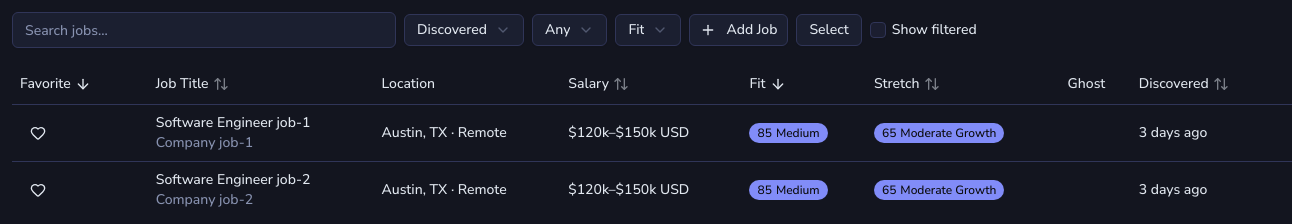
Scenario: OpportunitiesTable › multi-select mode › updates selected count when rows are checked
Expected: the text "Software Engineer job-1" is shown, [156,112,310,132]
What coordinates should you click on to do the following:
click the button with test id "select-mode-button"
I would click on:
 (829, 30)
Its box is [796,14,862,46].
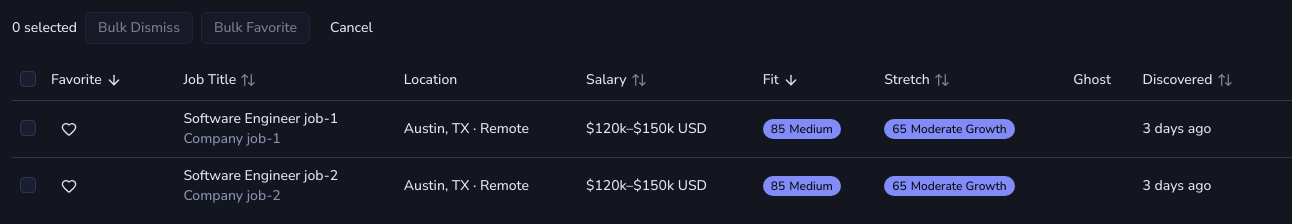
What coordinates should you click on to do the following:
click the checkbox named "Select row" next to "Software Engineer job-1"
I would click on:
 (28, 128)
Its box is [20,120,36,136].
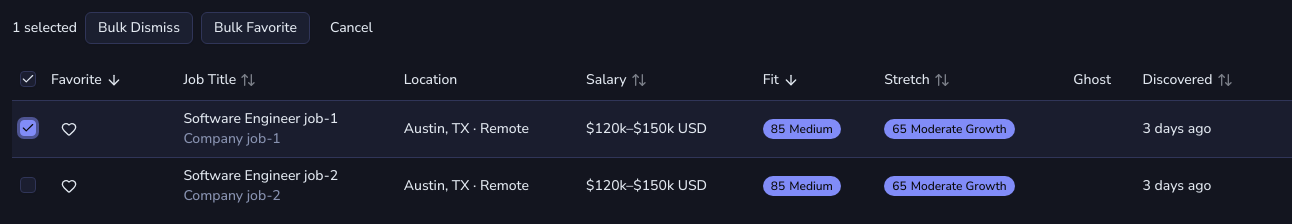
Expected: the text with test id "selected-count" reads "1 selected", [12,18,77,38]
